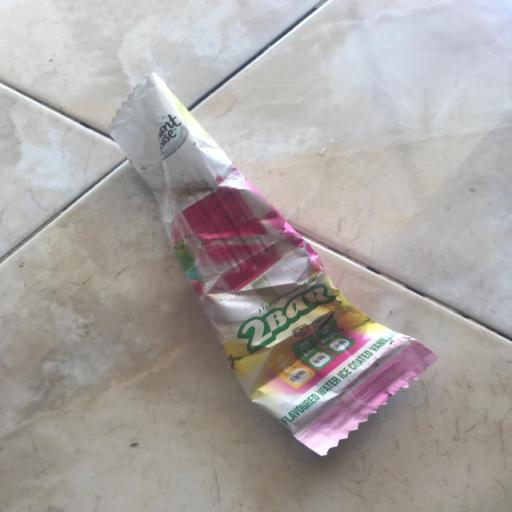waste: (86, 66, 444, 460)
